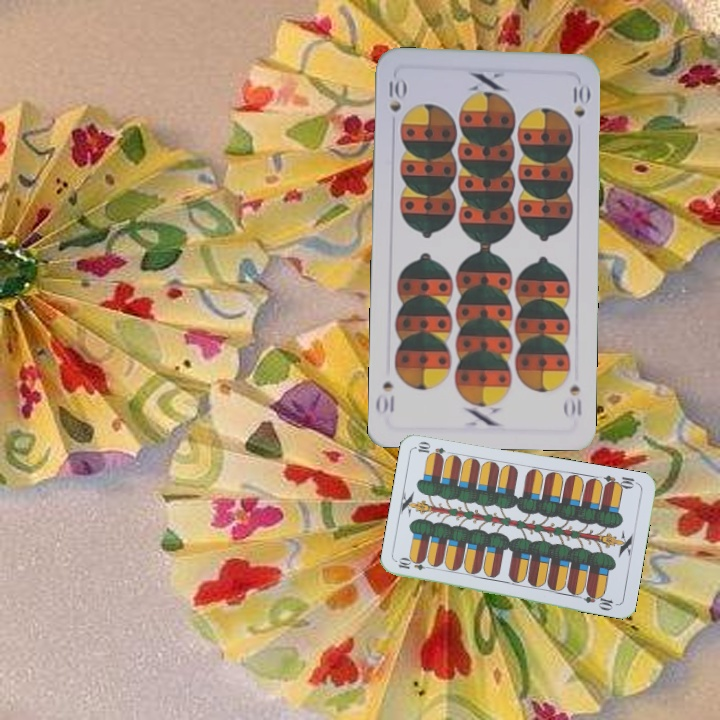E10: (600, 471, 641, 492), (394, 556, 435, 573)
S10: (384, 75, 407, 114), (561, 381, 584, 420)
